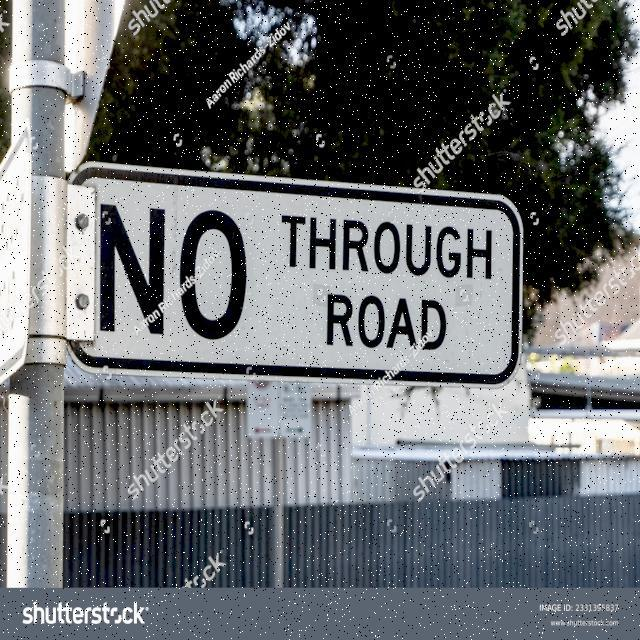Traffic sign: (61, 156, 529, 394)
